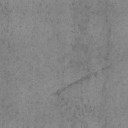finishing roll printing: (48, 70, 99, 96), (100, 64, 112, 70)
